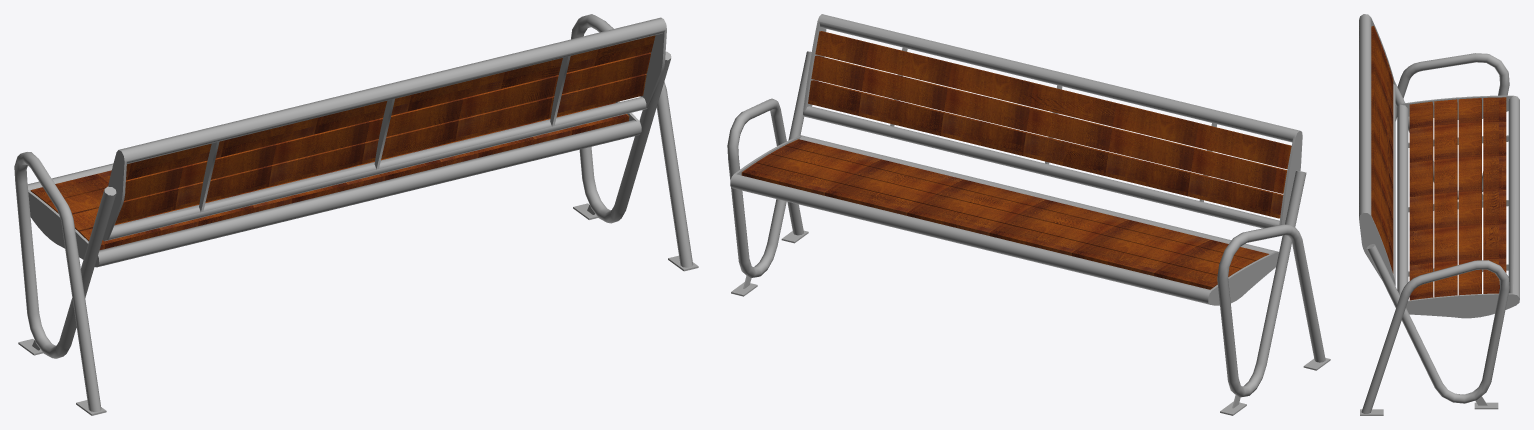
The picture shows the model from 3 angles, left to right: view 1: azimuth 30°, elevation 25°; view 2: azimuth 150°, elevation 25°; view 3: azimuth 270°, elevation 25°; orthographic projection. The views are drawn at different scales.
Visible parts, largest first — view 1: mesh6_mesh6-geometry, mesh5_mesh5-geometry, mesh10_mesh10-geometry, mesh8_mesh8-geometry, mesh3_mesh3-geometry, mesh11_mesh11-geometry, mesh1_mesh1-geometry, mesh7_mesh7-geometry, mesh9_mesh9-geometry, mesh2_mesh2-geometry; view 2: mesh6_mesh6-geometry, mesh10_mesh10-geometry, mesh8_mesh8-geometry, mesh11_mesh11-geometry, mesh5_mesh5-geometry, mesh9_mesh9-geometry, mesh3_mesh3-geometry, mesh2_mesh2-geometry, mesh4_mesh4-geometry, mesh7_mesh7-geometry, mesh1_mesh1-geometry; view 3: mesh5_mesh5-geometry, mesh1_mesh1-geometry, mesh7_mesh7-geometry, mesh2_mesh2-geometry, mesh4_mesh4-geometry, mesh9_mesh9-geometry, mesh6_mesh6-geometry, mesh11_mesh11-geometry, mesh3_mesh3-geometry, mesh8_mesh8-geometry, mesh10_mesh10-geometry.
Part boxes in pixels (<box>): mesh6_mesh6-geometry: <box>102,17,666,241</box>; mesh5_mesh5-geometry: <box>27,101,641,267</box>; mesh10_mesh10-geometry: <box>115,73,646,224</box>; mesh8_mesh8-geometry: <box>124,52,650,200</box>; mesh3_mesh3-geometry: <box>14,152,116,415</box>; mesh11_mesh11-geometry: <box>126,35,655,180</box>; mesh1_mesh1-geometry: <box>571,14,698,271</box>; mesh7_mesh7-geometry: <box>79,102,629,249</box>; mesh9_mesh9-geometry: <box>30,170,111,203</box>; mesh2_mesh2-geometry: <box>47,189,104,214</box>; mesh6_mesh6-geometry: <box>803,14,1302,228</box>; mesh10_mesh10-geometry: <box>808,80,1283,218</box>; mesh8_mesh8-geometry: <box>811,55,1287,193</box>; mesh11_mesh11-geometry: <box>815,31,1291,169</box>; mesh5_mesh5-geometry: <box>730,135,1278,305</box>; mesh9_mesh9-geometry: <box>741,163,1217,289</box>; mesh3_mesh3-geometry: <box>1217,170,1330,415</box>; mesh2_mesh2-geometry: <box>756,154,1240,277</box>; mesh4_mesh4-geometry: <box>770,146,1254,268</box>; mesh7_mesh7-geometry: <box>785,139,1268,261</box>; mesh1_mesh1-geometry: <box>727,51,811,296</box>; mesh5_mesh5-geometry: <box>1397,95,1519,318</box>; mesh1_mesh1-geometry: <box>1360,244,1509,415</box>; mesh7_mesh7-geometry: <box>1409,101,1433,300</box>; mesh2_mesh2-geometry: <box>1458,98,1481,295</box>; mesh4_mesh4-geometry: <box>1434,99,1457,297</box>; mesh9_mesh9-geometry: <box>1483,97,1506,293</box>; mesh6_mesh6-geometry: <box>1359,14,1395,285</box>; mesh11_mesh11-geometry: <box>1371,26,1380,237</box>; mesh3_mesh3-geometry: <box>1394,53,1509,200</box>; mesh8_mesh8-geometry: <box>1381,44,1387,255</box>; mesh10_mesh10-geometry: <box>1387,63,1393,273</box>.
Size of the model in its own units: 0.8928 by 0.3582 by 0.2731.
